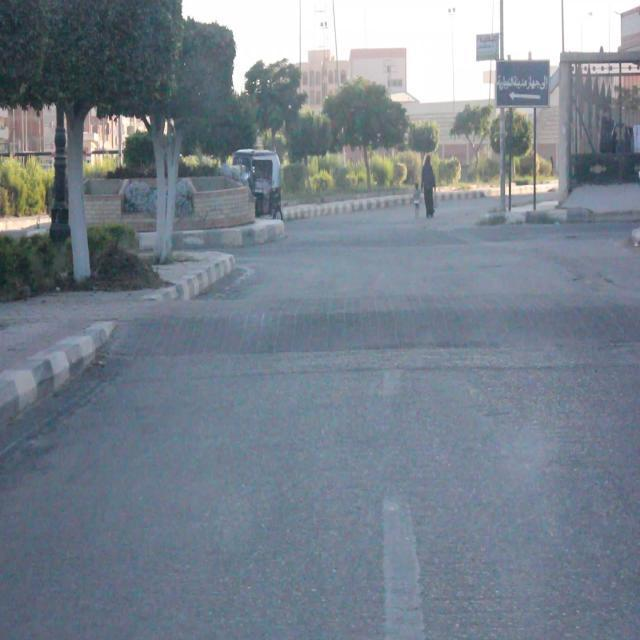NonMarked Bump: (132, 302, 633, 363)
